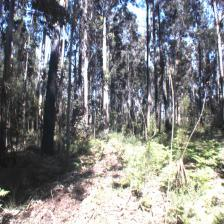trunktrack_idkeyframe: (41, 55, 60, 154), (66, 55, 71, 145)
